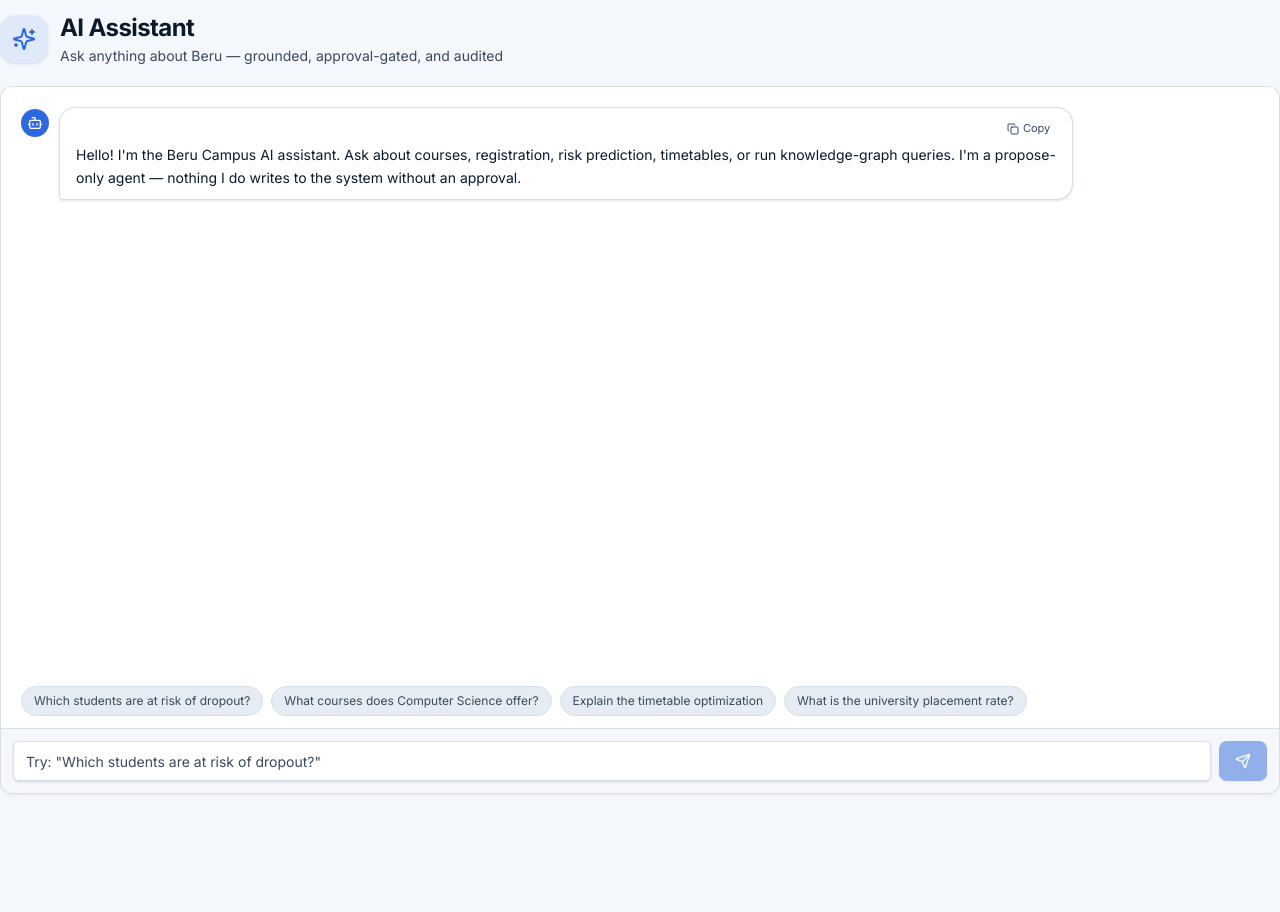
Test case: Chat › streams a response into the conversation when a suggestion is clicked
Step 1. Click the button "Which students are at risk of dropout?" → (142, 701), box [21, 686, 263, 716]
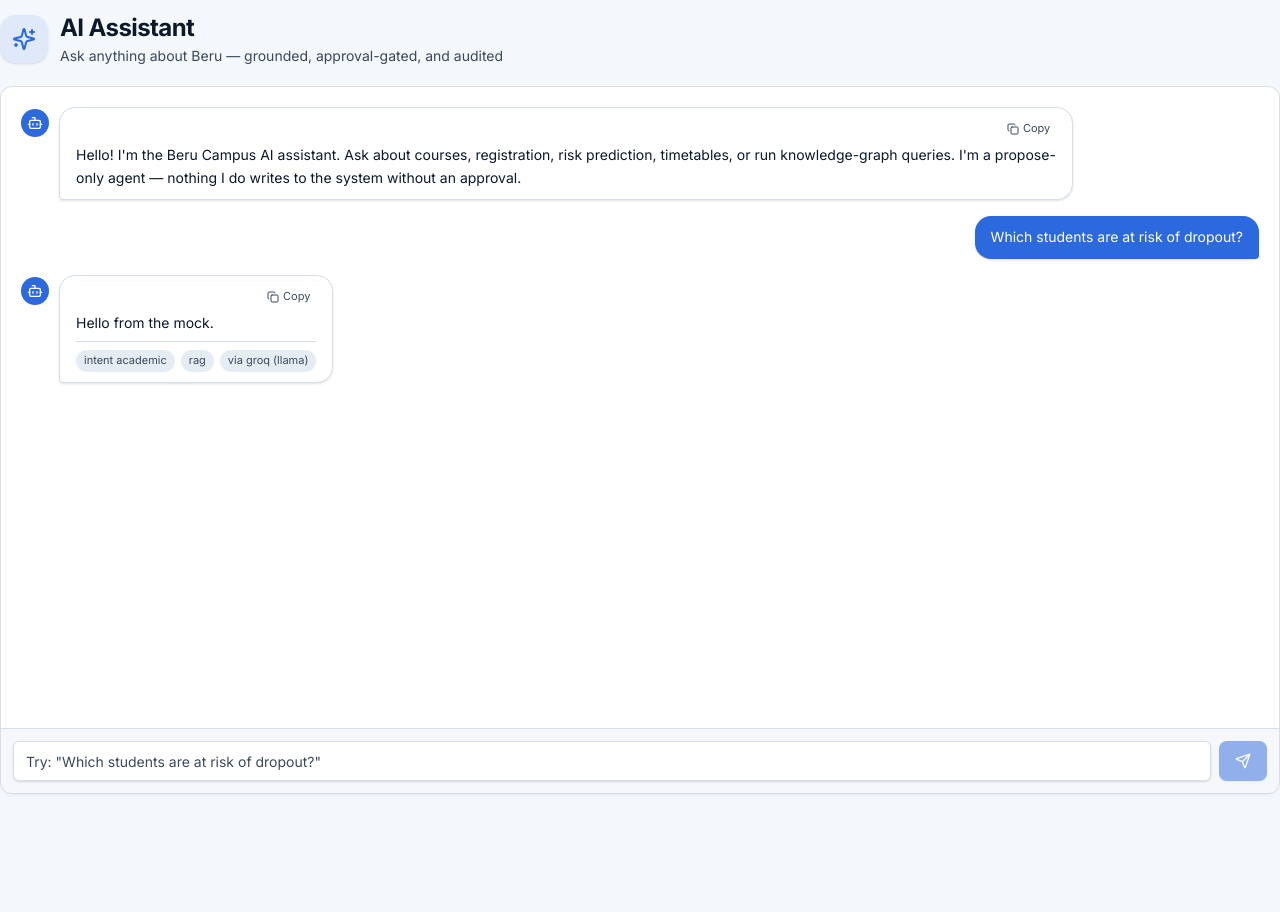
expect the text "Hello from the mock." is shown: met, box [76, 314, 214, 331]
expect the text "intent academic" is shown: met, box [76, 350, 175, 372]
